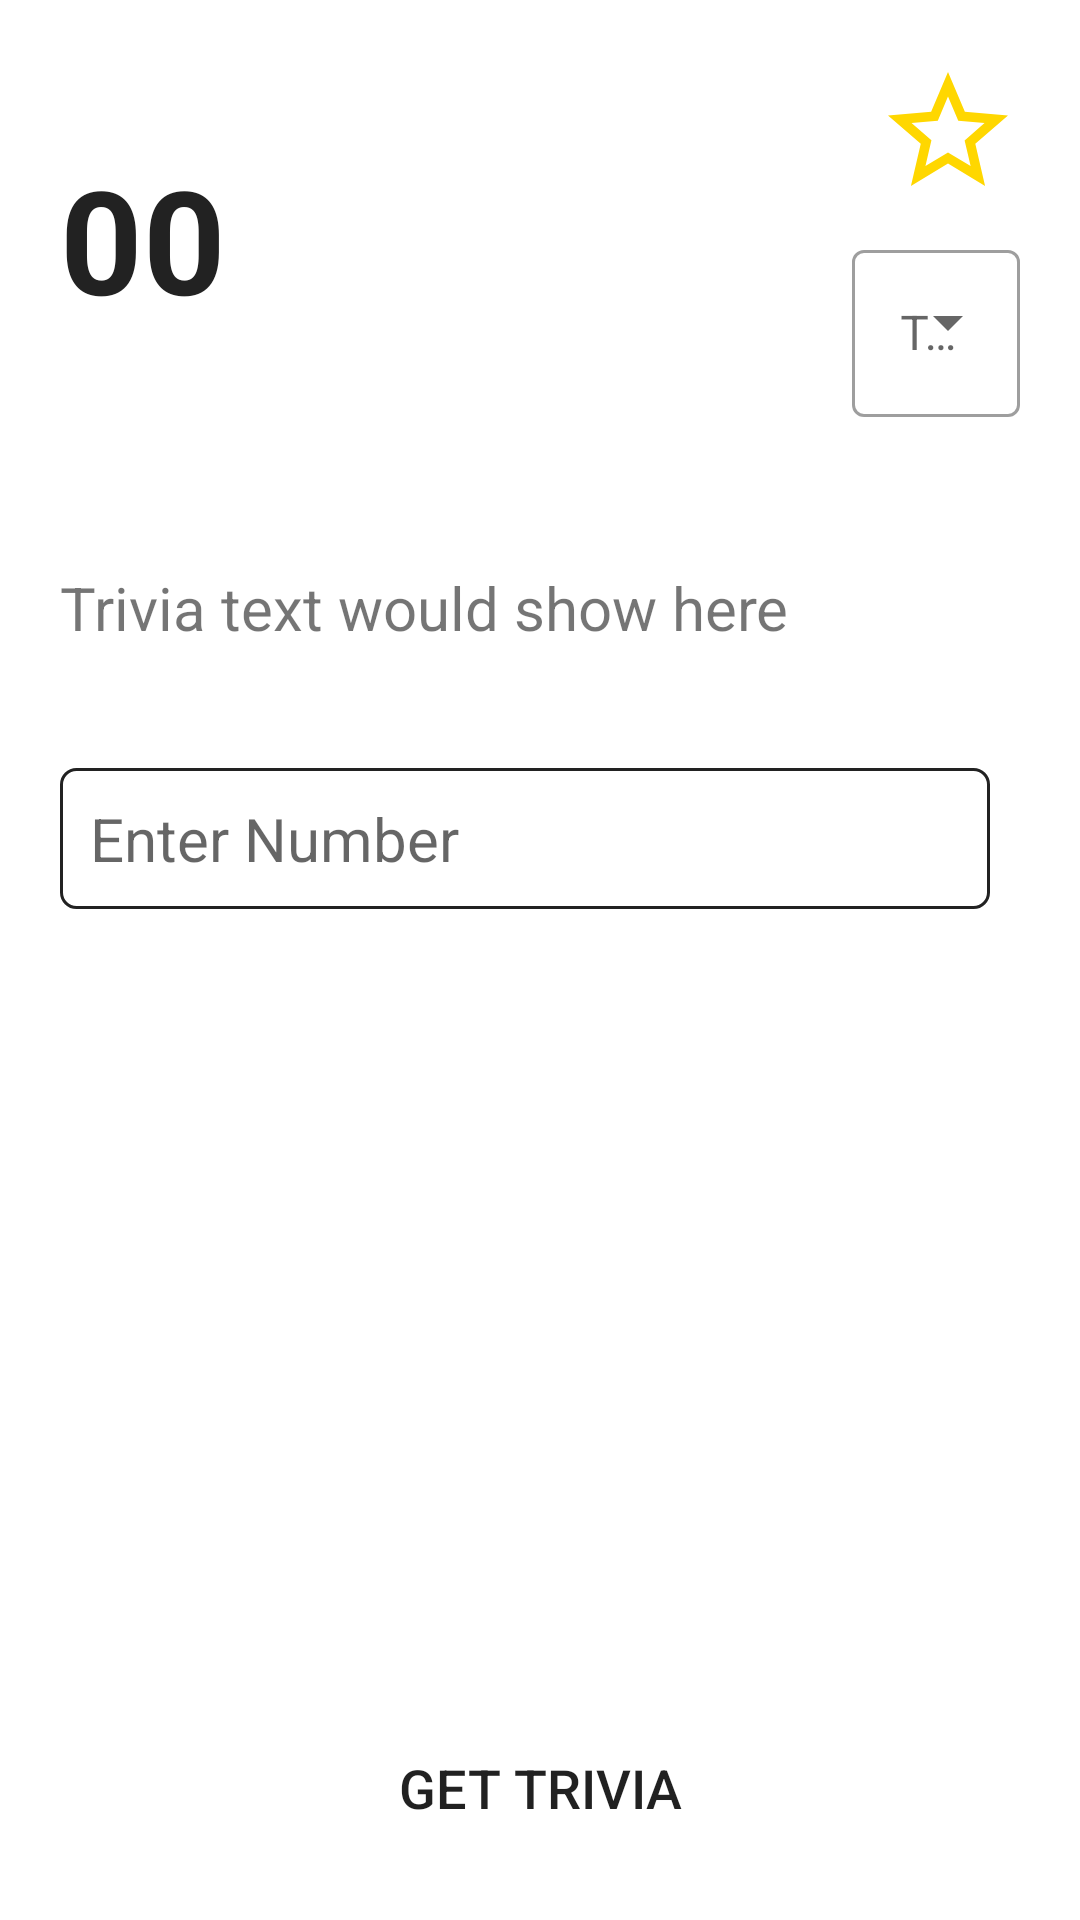

Screen size 1080*1920. Icon name, then its box in pixels as region(x1, y1, x2, y2):
star: region(888, 72, 1008, 186)
